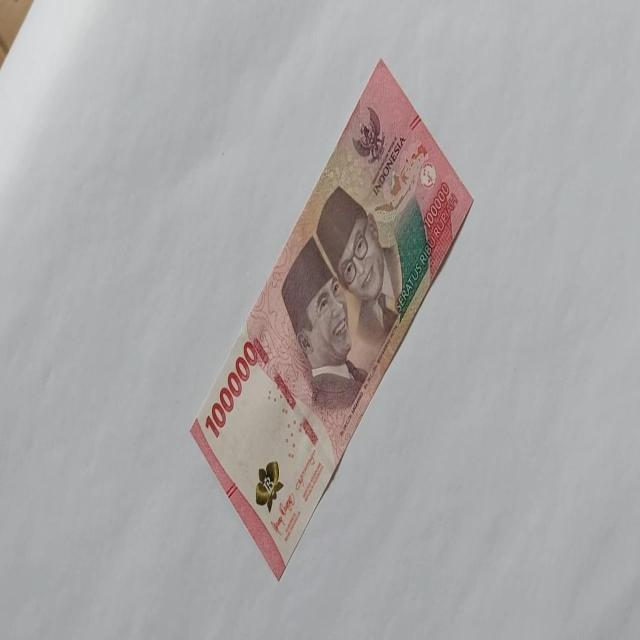Kertas: (188, 56, 474, 580), (204, 339, 258, 439)
